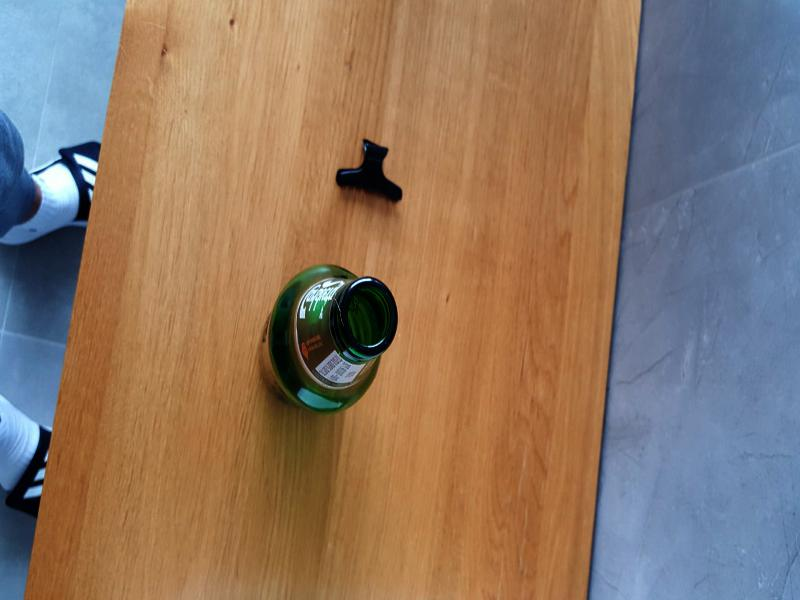Beer: (257, 260, 396, 412)
